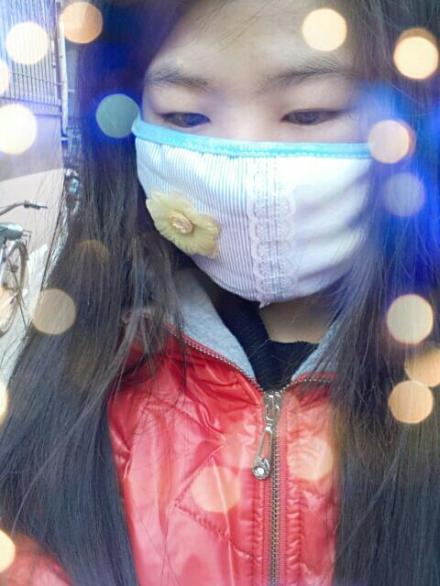OK: (136, 57, 377, 298)
